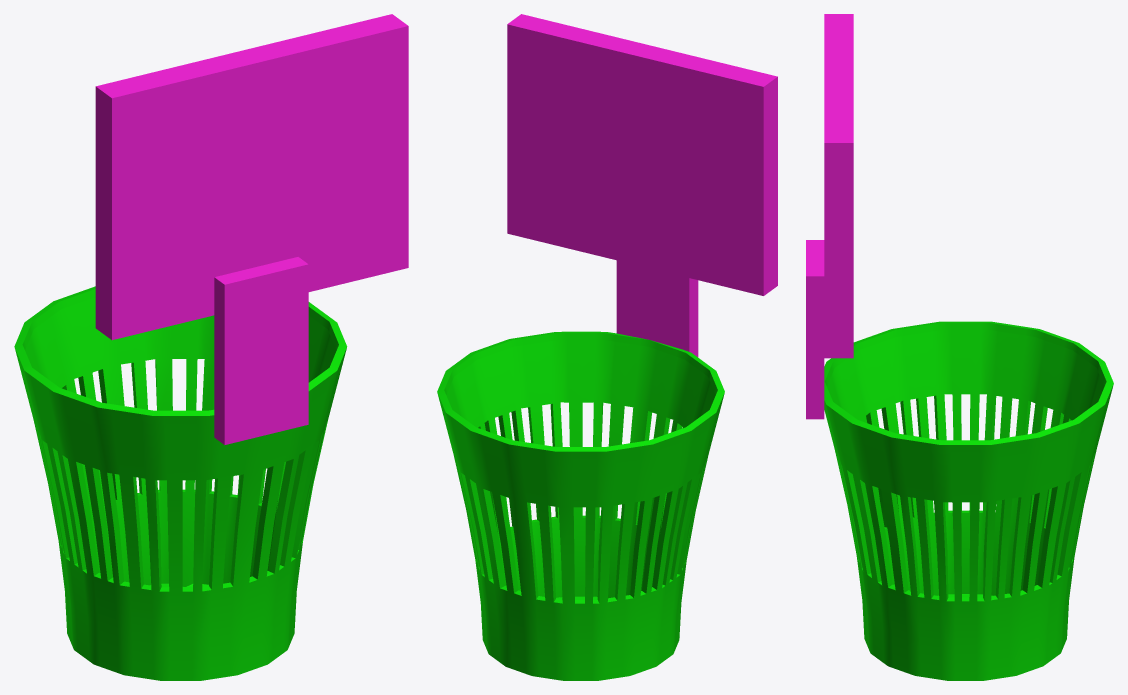
The model's file is Trashcan.fbx.
3 views of the same model, side by side, from view 1: azimuth 30°, elevation 25°; view 2: azimuth 150°, elevation 25°; view 3: azimuth 270°, elevation 25° (orthographic). The views are drawn at different scales.
Parts seen in each view (by area): view 1: Trash; view 2: Trash; view 3: Trash.
Part boxes in pixels (x1,y1,x2,y2): Trash: (14,14,408,680); Trash: (437,14,777,680); Trash: (806,14,1113,680).
Bounding box in the file's own units: 9.01 × 18.28 × 9.1.
